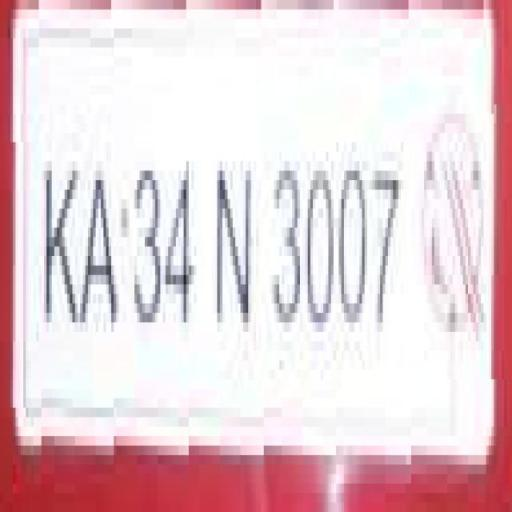number plate: (20, 10, 510, 446)
